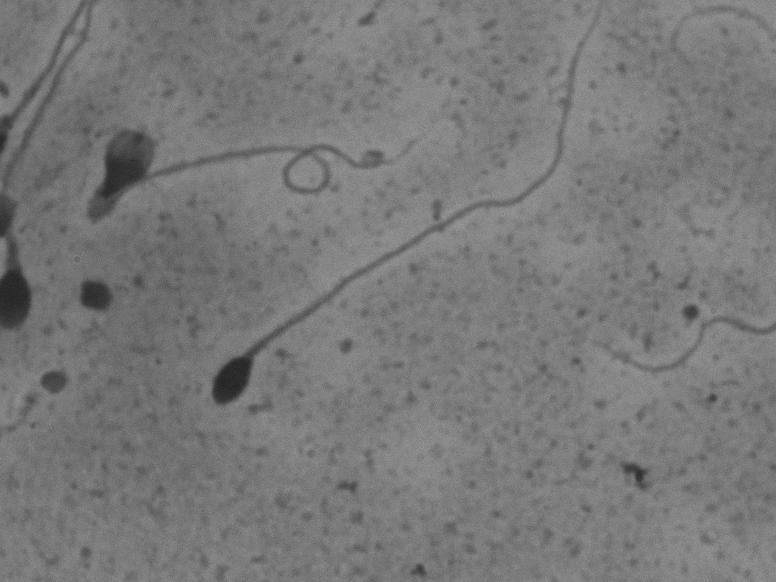Normal: (191, 12, 617, 427)
